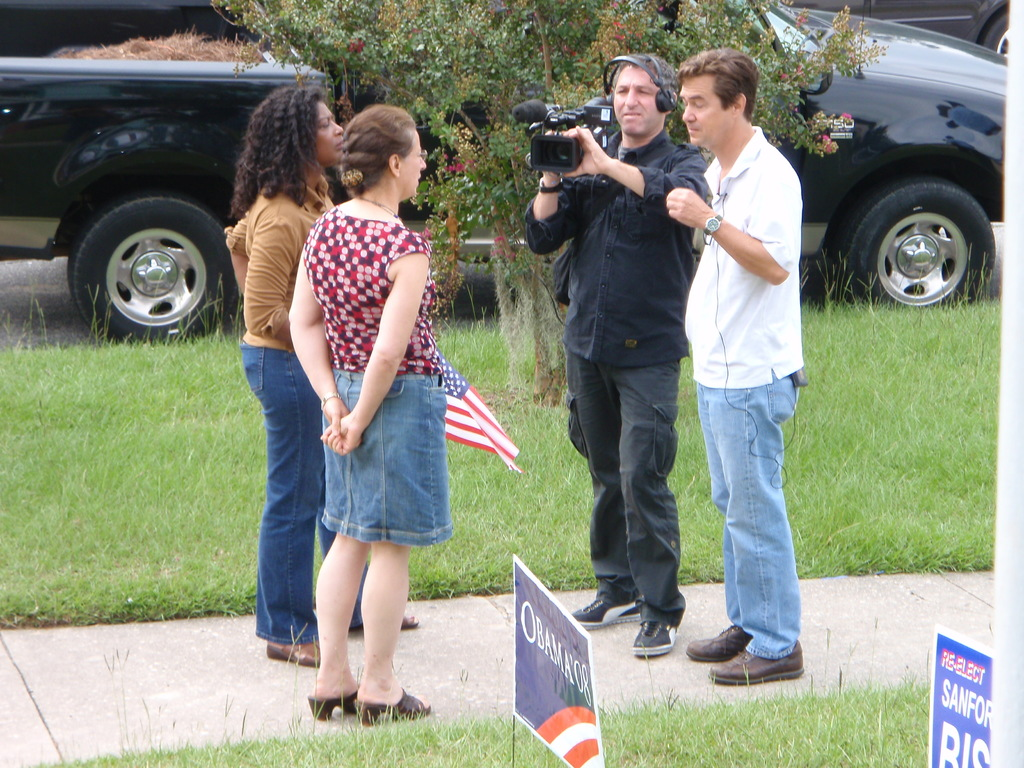Car: (779, 0, 1022, 55)
